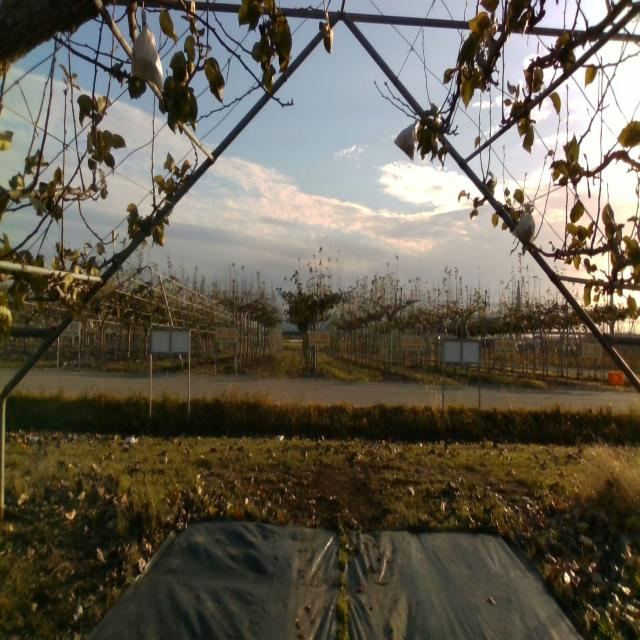pearbags: (132, 10, 168, 94), (394, 118, 420, 162), (510, 206, 536, 248)
